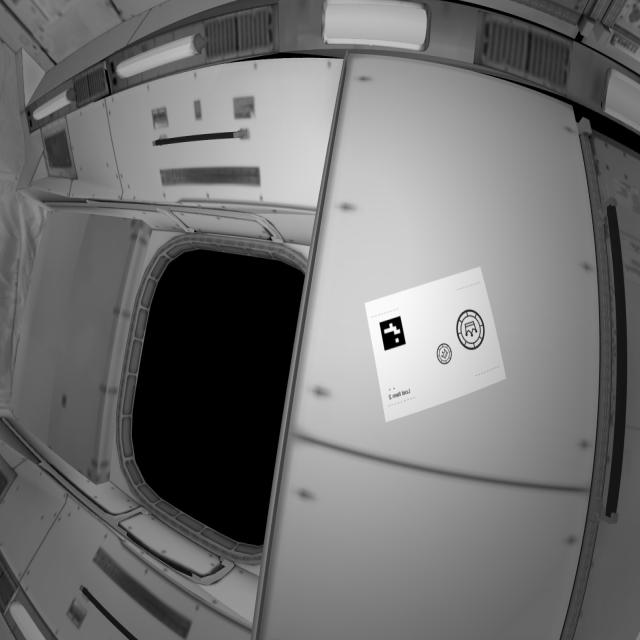coin: (455, 308, 490, 357), (436, 341, 456, 369)
